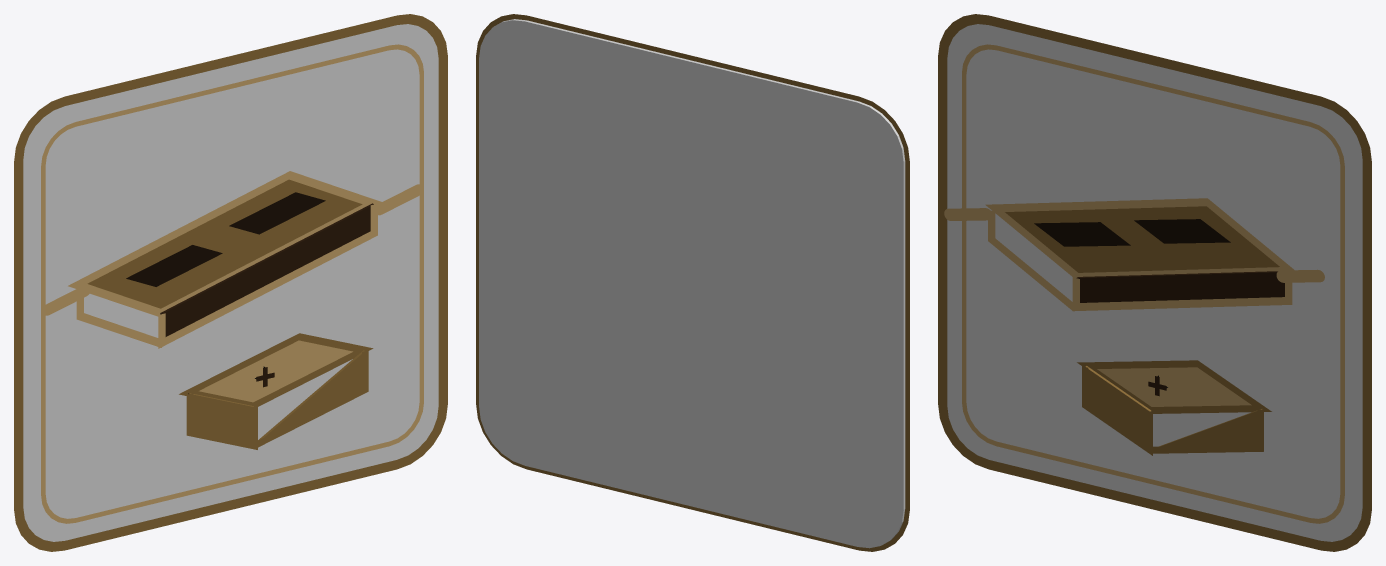
The model's file is obj-kirpich-forma.glb.
3 renders of one model, left to right at view 1: azimuth 30°, elevation 25°; view 2: azimuth 150°, elevation 25°; view 3: azimuth 330°, elevation 25°, orthographic.
Visible parts, largest first — view 1: obj-kirpich-forma; view 2: obj-kirpich-forma; view 3: obj-kirpich-forma.
Boxes of the visible parts, x1,y1,x2,y2 form: obj-kirpich-forma: (14,14,447,551); obj-kirpich-forma: (476,14,909,551); obj-kirpich-forma: (938,14,1371,551).
Size of the model in its own units: 0.3917 by 0.3917 by 0.0276.
